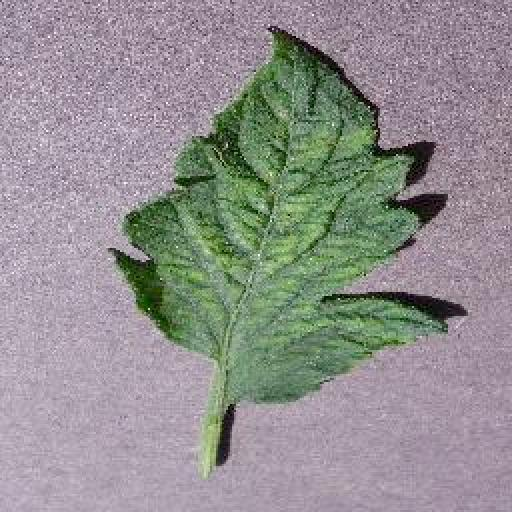disease_tomato: (114, 27, 450, 405)
